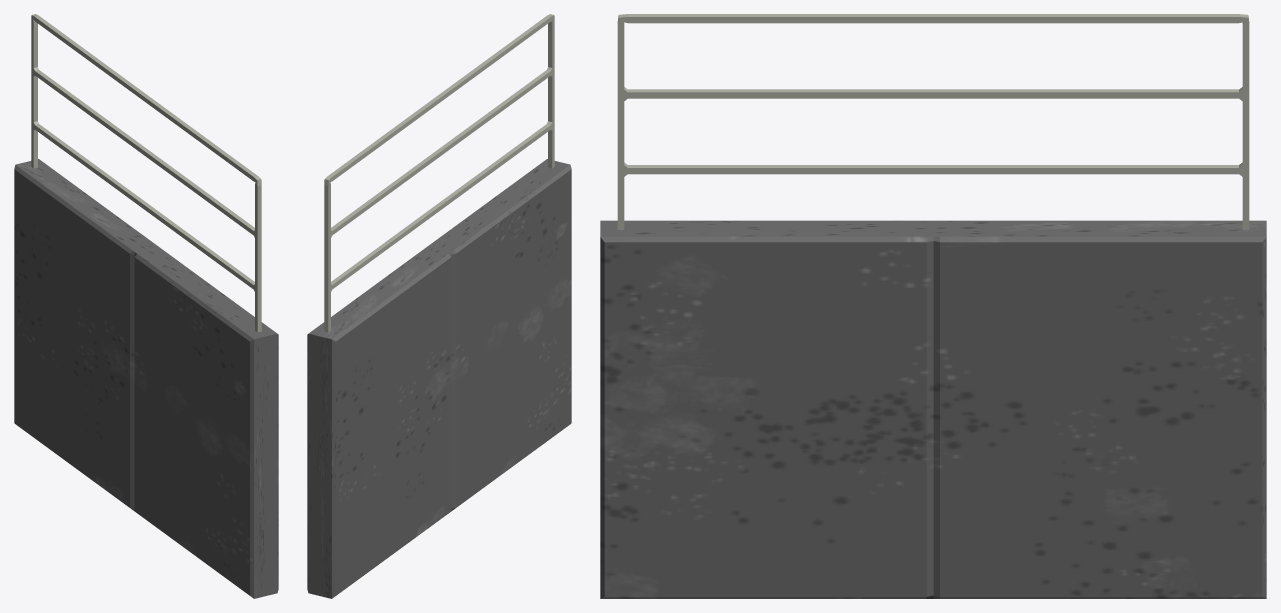
File: Pig_Fence.fbx
3 renders of one model, left to right at view 1: azimuth 30°, elevation 25°; view 2: azimuth 150°, elevation 25°; view 3: azimuth 270°, elevation 25°, orthographic. The views are drawn at different scales.
Visible parts, largest first — view 1: Pig_Fence2.0; view 2: Pig_Fence2.0; view 3: Pig_Fence2.0.
Part boxes in pixels (box(x1,y1,x2,y2)): Pig_Fence2.0: box(14, 14, 278, 598); Pig_Fence2.0: box(307, 14, 571, 598); Pig_Fence2.0: box(600, 14, 1266, 598).
Bounding box in the file's own units: 13.89 × 191 × 200.
Materials: 2 (2 with a texture image).
